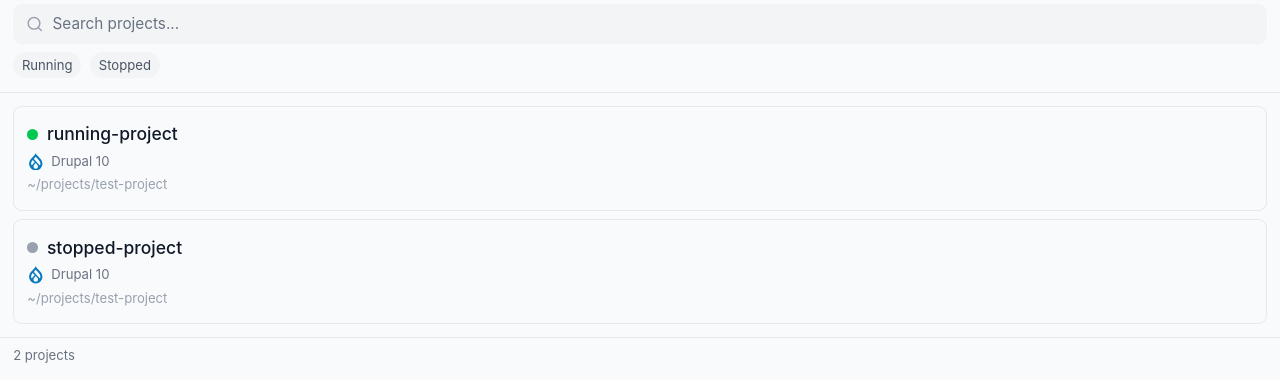
ProjectList › status filter › should toggle filter off when clicked again
Expected: the heading "running-project" is shown, [47,123,178,144]
# Enable filter
Click the button "Running" at (47, 65), box [13,52,81,78]
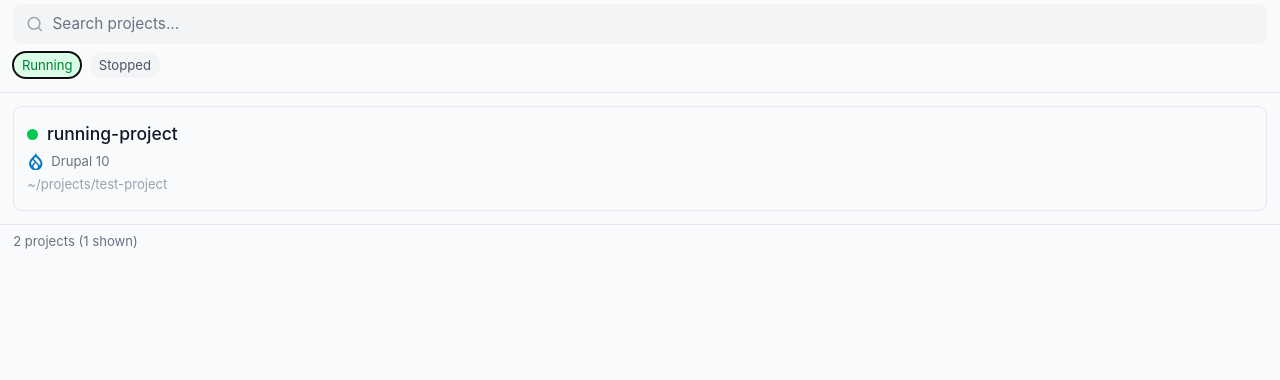
Expected: the option "stopped-project" is gone
# Disable filter
Click the button "Running" at (47, 65), box [13,52,81,78]
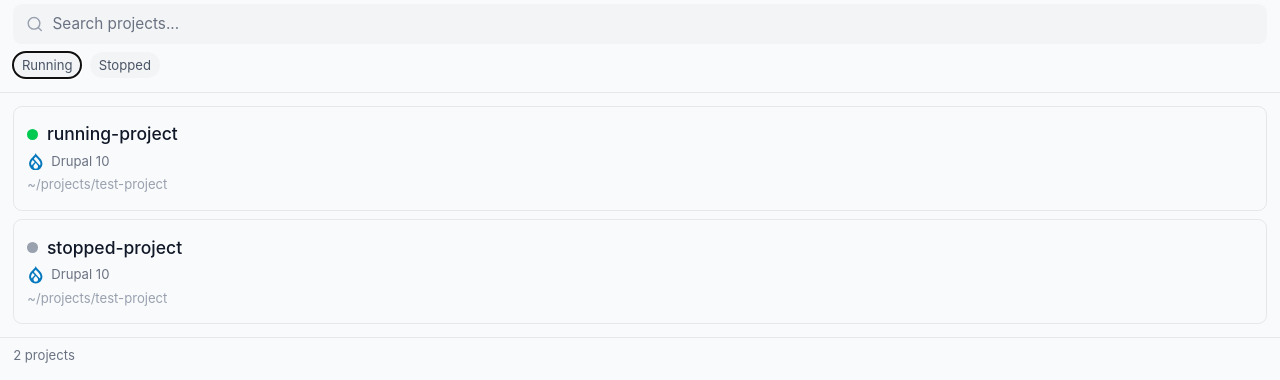
Expected: the heading "running-project" is shown, [47,123,178,144]
Expected: the heading "stopped-project" is shown, [47,236,182,258]
